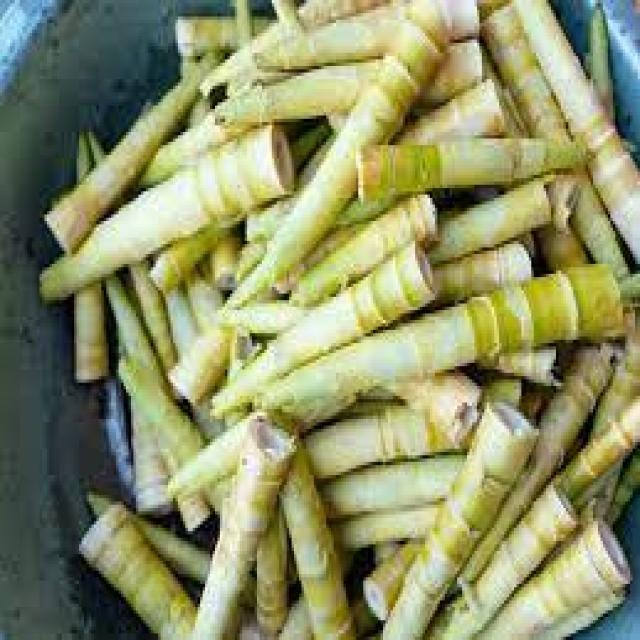Bamboo Shoots: (310, 231, 511, 364), (293, 430, 483, 568), (100, 138, 316, 232), (348, 41, 518, 156)
